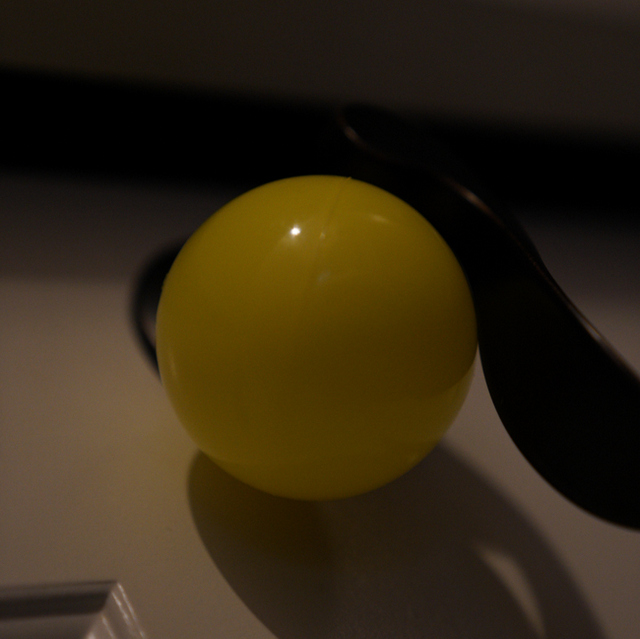Ball: (151, 173, 482, 492)
